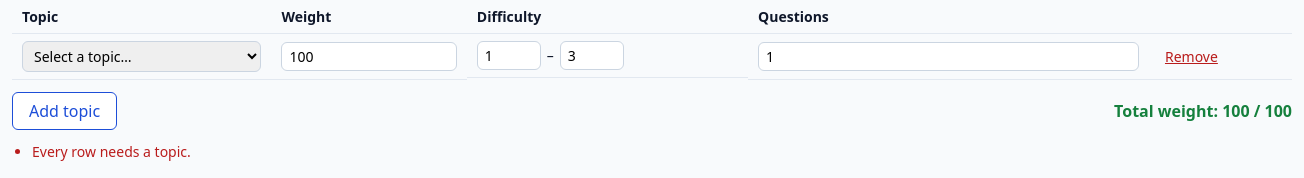
Test: TopicMixEditor › lets a topic be chosen for a row
Select "graphs" in the dropdown named "Topic for row 1" at (142, 56), box [22,41,261,72]
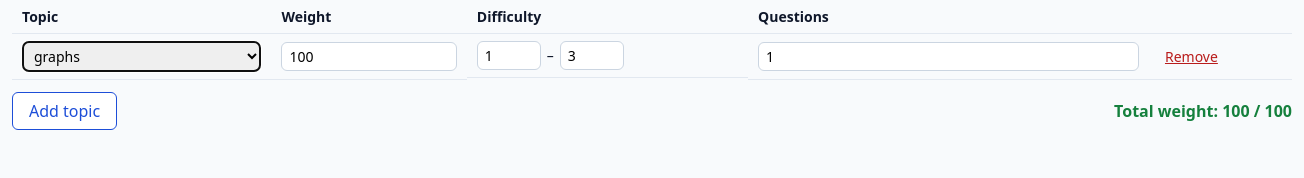
Now the message "Every row needs a topic." is gone
